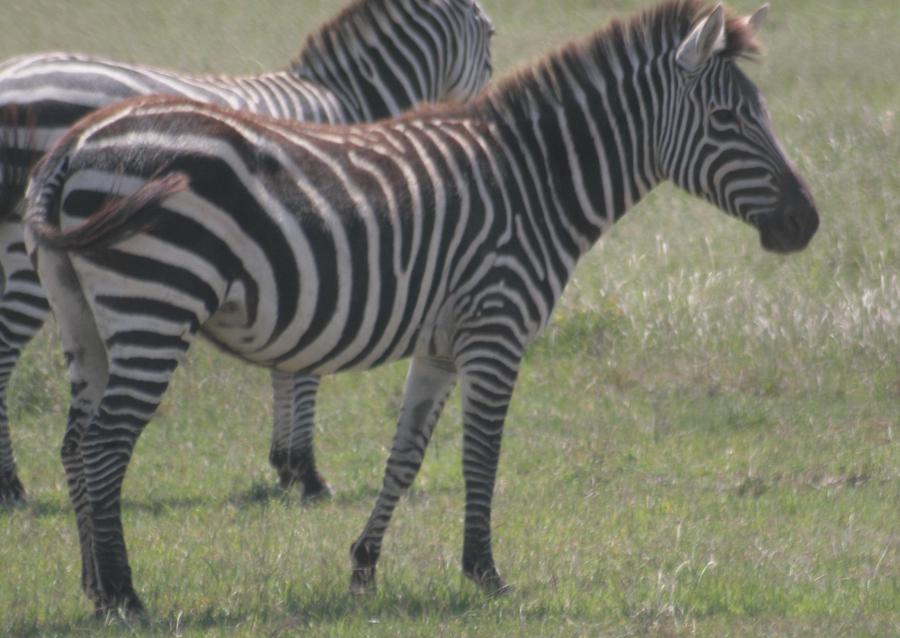zebra_plains: (74, 88, 563, 379)
